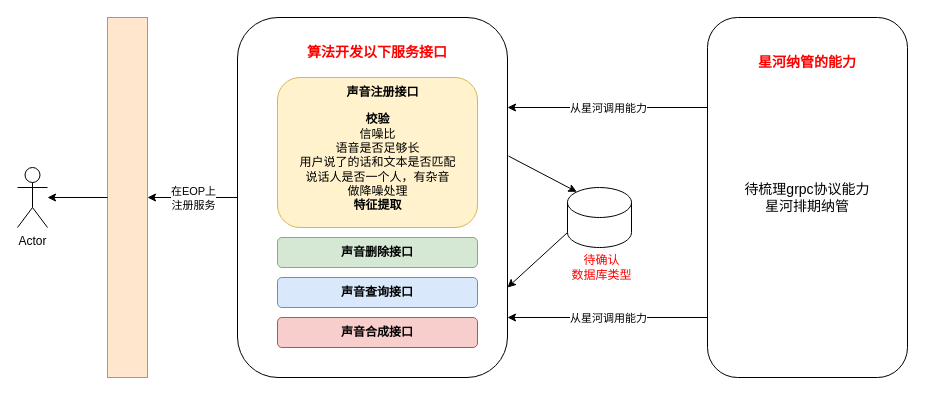
The diagram is 925 pixels wide and 395 high, and some of its shapes have lost their labels. The centre of each missing label's shape, as x and y in pixels:
"EOP" goes at pixel 127 197.
"数据库" goes at pixel 599 217.
